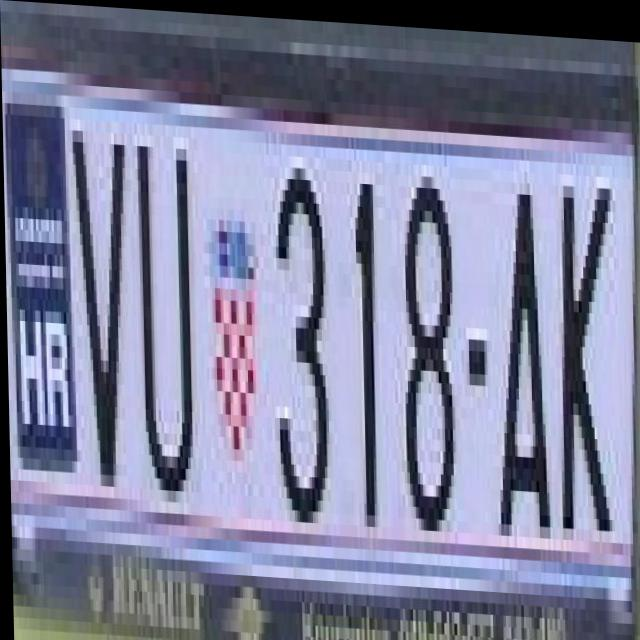1: (343, 189, 388, 523)
3: (262, 117, 329, 497)
8: (398, 180, 453, 538)
A: (497, 140, 548, 497)
K: (552, 166, 615, 512)
U: (133, 110, 197, 490)
V: (74, 118, 130, 486)
